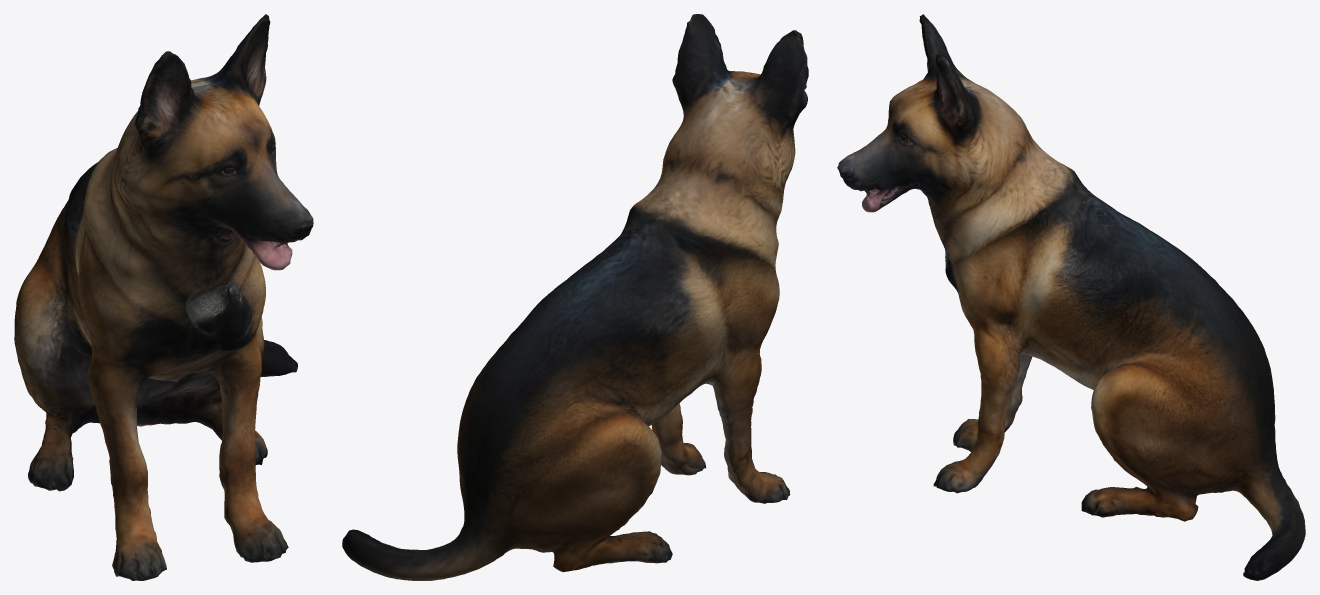
File: BELGIAN_MALINOIS_SA_0708100127.fbx
The picture shows the model from 3 angles, left to right: view 1: azimuth 30°, elevation 25°; view 2: azimuth 150°, elevation 25°; view 3: azimuth 270°, elevation 25°; orthographic projection. The views are drawn at different scales.
Visible parts, largest first — view 1: Mesh_0; view 2: Mesh_0; view 3: Mesh_0.
Part boxes in pixels (x1,y1,x2,y2): Mesh_0: (14,14,313,580); Mesh_0: (342,14,808,580); Mesh_0: (837,14,1305,580).
Size of the model in its own units: 80.82 by 120 by 115.
Materials: 1 (1 with a texture image).
